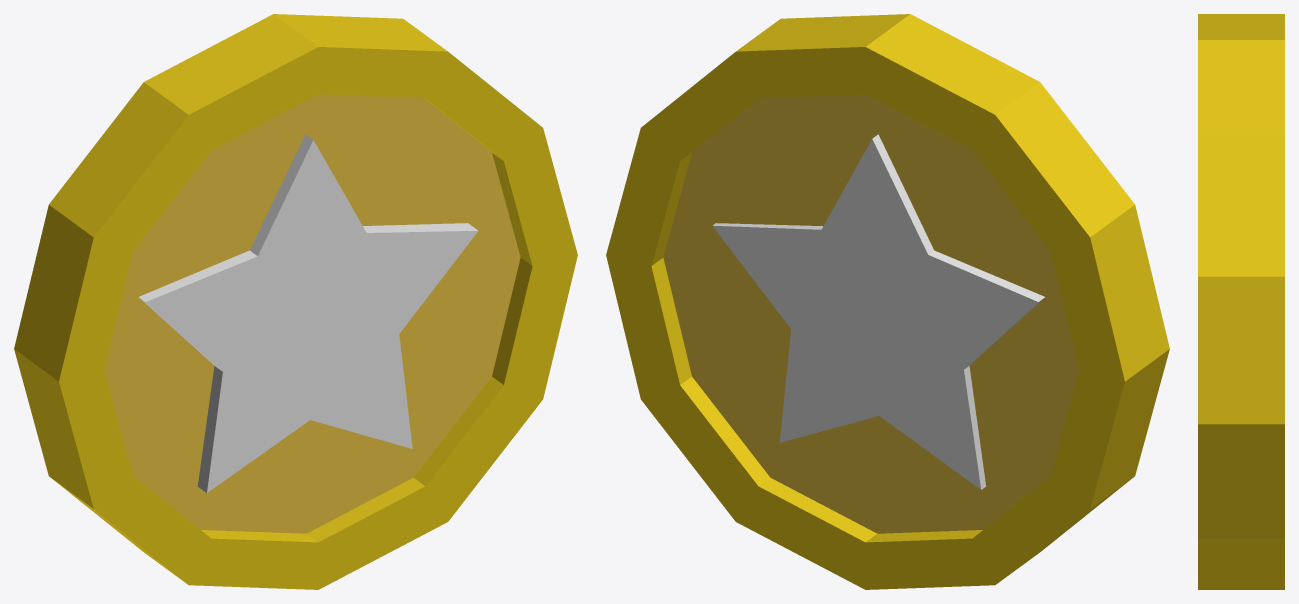
File: Coin-with-star.fbx
The picture shows the model from 3 angles, left to right: view 1: azimuth 30°, elevation 25°; view 2: azimuth 150°, elevation 25°; view 3: azimuth 270°, elevation 25°; orthographic projection. The views are drawn at different scales.
Parts seen in each view (by area): view 1: Coin; view 2: Coin; view 3: Coin.
Boxes of the visible parts, bbox=[...] form: Coin: bbox=[14, 14, 577, 589]; Coin: bbox=[606, 14, 1169, 589]; Coin: bbox=[1198, 14, 1284, 589].
Size of the model in its own units: 100 by 100 by 15.
